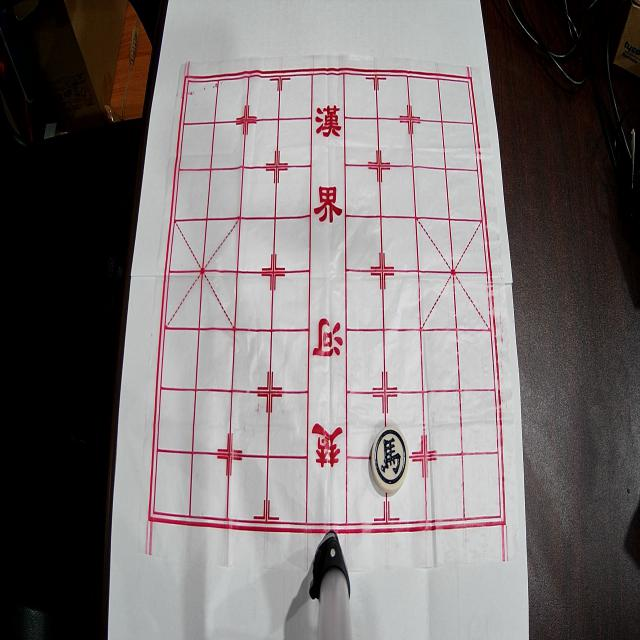black-horse: (371, 426, 409, 492)
